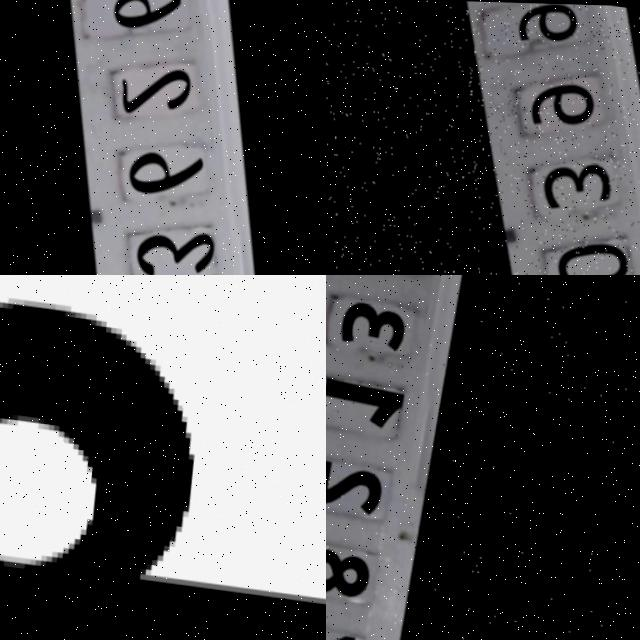0: (541, 223, 640, 275)
1: (326, 356, 422, 458)
2: (326, 436, 406, 538), (110, 54, 206, 127)
3: (326, 276, 433, 374), (524, 144, 634, 228), (126, 213, 229, 275)
6: (118, 132, 219, 210), (103, 0, 195, 43)
8: (326, 522, 398, 625)
9: (513, 66, 616, 149), (500, 1, 597, 62)
B: (0, 294, 326, 640)
